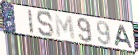9: (75, 17, 93, 44), (96, 20, 112, 47)
A: (114, 24, 134, 50)
I: (27, 9, 35, 36)
M: (54, 13, 77, 41)
S: (36, 10, 55, 38)
